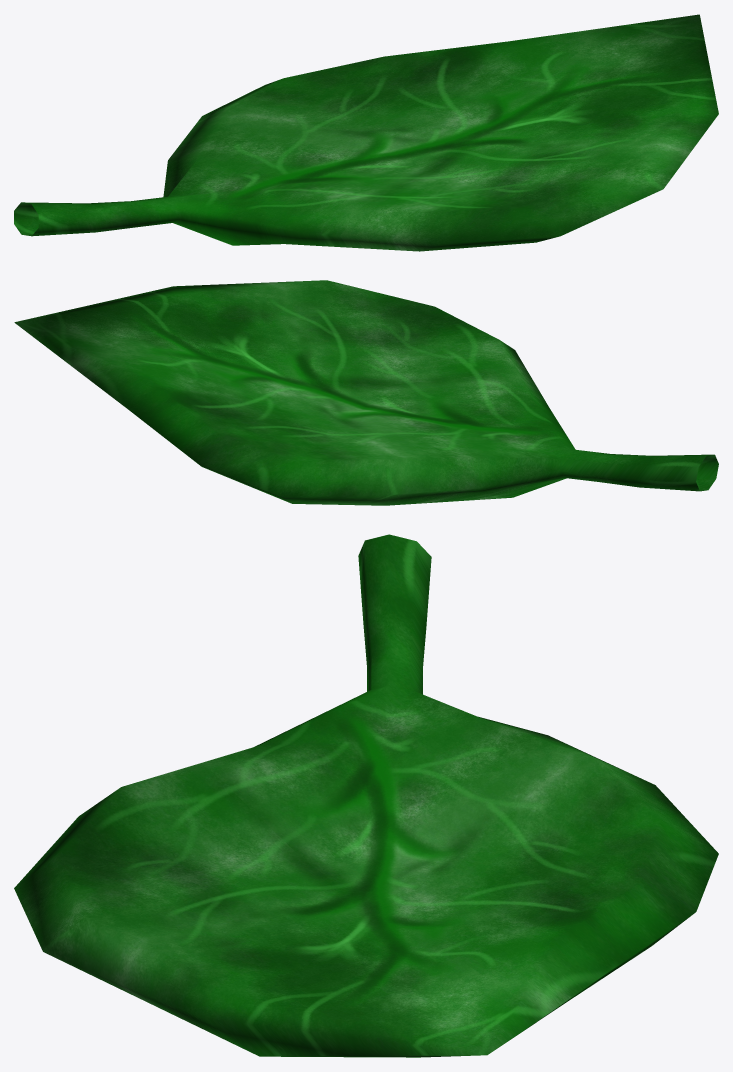
File: leaf_1.FBX
The picture shows the model from 3 angles, top to bottom: view 1: azimuth 30°, elevation 25°; view 2: azimuth 150°, elevation 25°; view 3: azimuth 270°, elevation 25°; orthographic projection. The views are drawn at different scales.
Visible parts, largest first — view 1: Cylinder001; view 2: Cylinder001; view 3: Cylinder001.
Boxes of the visible parts, x1,y1,x2,y2 form: Cylinder001: [14, 14, 718, 251]; Cylinder001: [14, 280, 718, 505]; Cylinder001: [14, 534, 718, 1057].
Bounding box in the file's own units: 43.44 × 5.56 × 25.05.
Materials: 1 (1 with a texture image).
